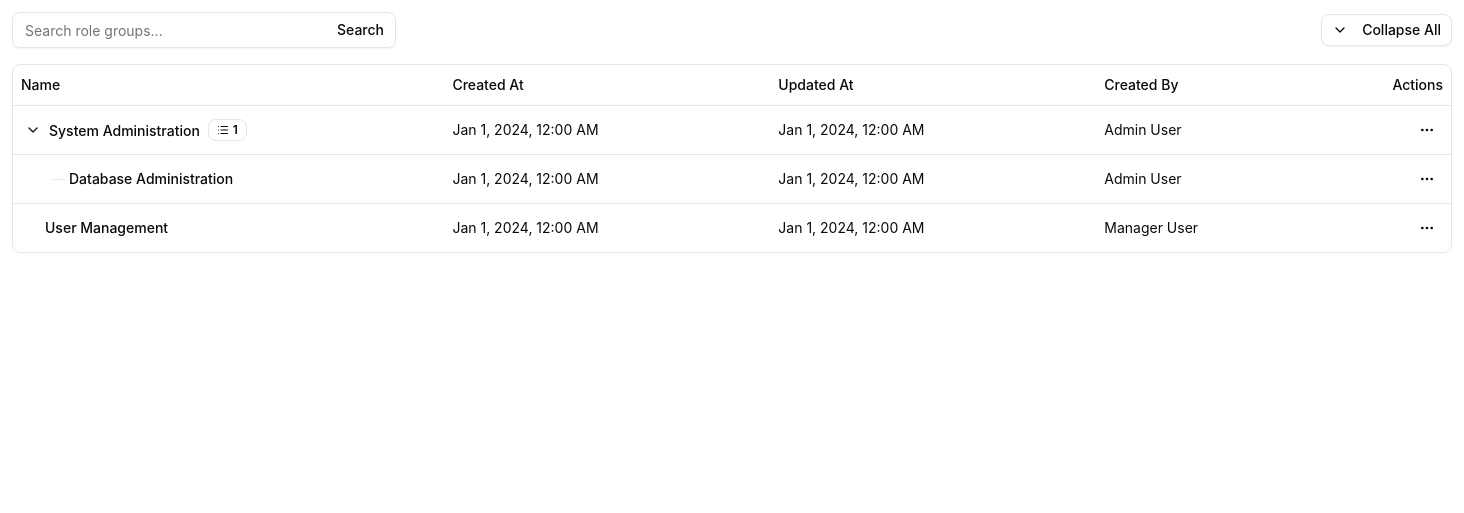
it: RoleGroupList Component › Move Functionality › shows available parent groups as move options
Click the 2nd button named "Open menu". click: (1427,178)
box: [1411,162,1443,194]
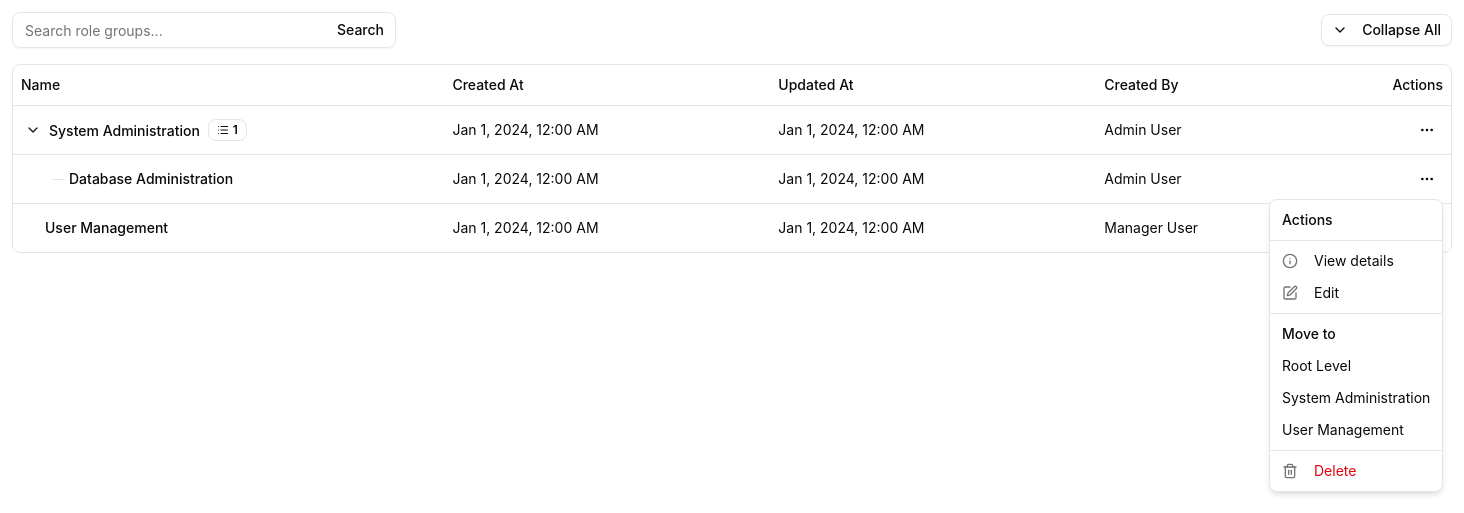
Result: the text "Move to" is shown at [1282,325,1336,342]
